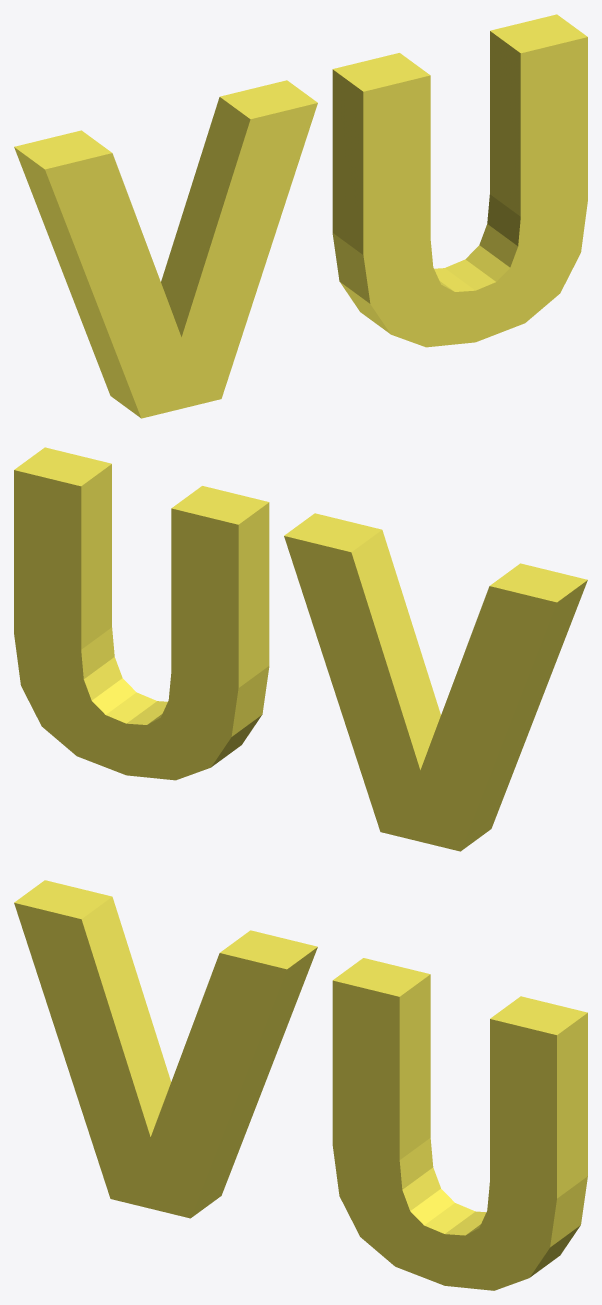
The model's file is suku_besar_vu.glb.
The picture shows the model from 3 angles, top to bottom: view 1: azimuth 30°, elevation 25°; view 2: azimuth 150°, elevation 25°; view 3: azimuth 330°, elevation 25°; orthographic projection.
Parts seen in each view (by area): view 1: geometry_0; view 2: geometry_0; view 3: geometry_0.
Boxes of the visible parts, box(x1,y1,x2,y2) form: geometry_0: box(14, 14, 587, 418); geometry_0: box(14, 447, 587, 851); geometry_0: box(14, 880, 587, 1290).
Size of the model in its own units: 15.2 by 7.43 by 1.5.
